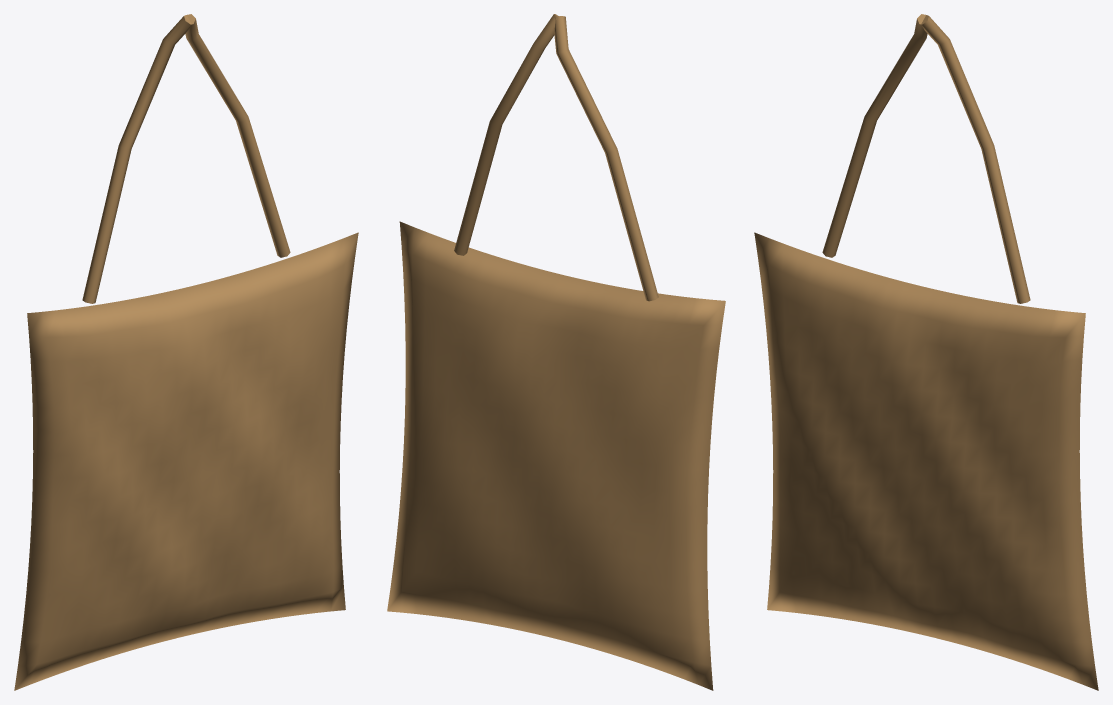
Rendered from tote_bag.fbx.
3 renders of one model, left to right at view 1: azimuth 30°, elevation 25°; view 2: azimuth 150°, elevation 25°; view 3: azimuth 330°, elevation 25°, orthographic.
Visible parts, largest first — view 1: tote_bag; view 2: tote_bag; view 3: tote_bag.
Part boxes in pixels (bbox=[...]): tote_bag: bbox=[14, 14, 358, 690]; tote_bag: bbox=[387, 14, 725, 690]; tote_bag: bbox=[754, 14, 1098, 690].
Bounding box in the file's own units: 0.34 × 0.6282 × 0.0719.
